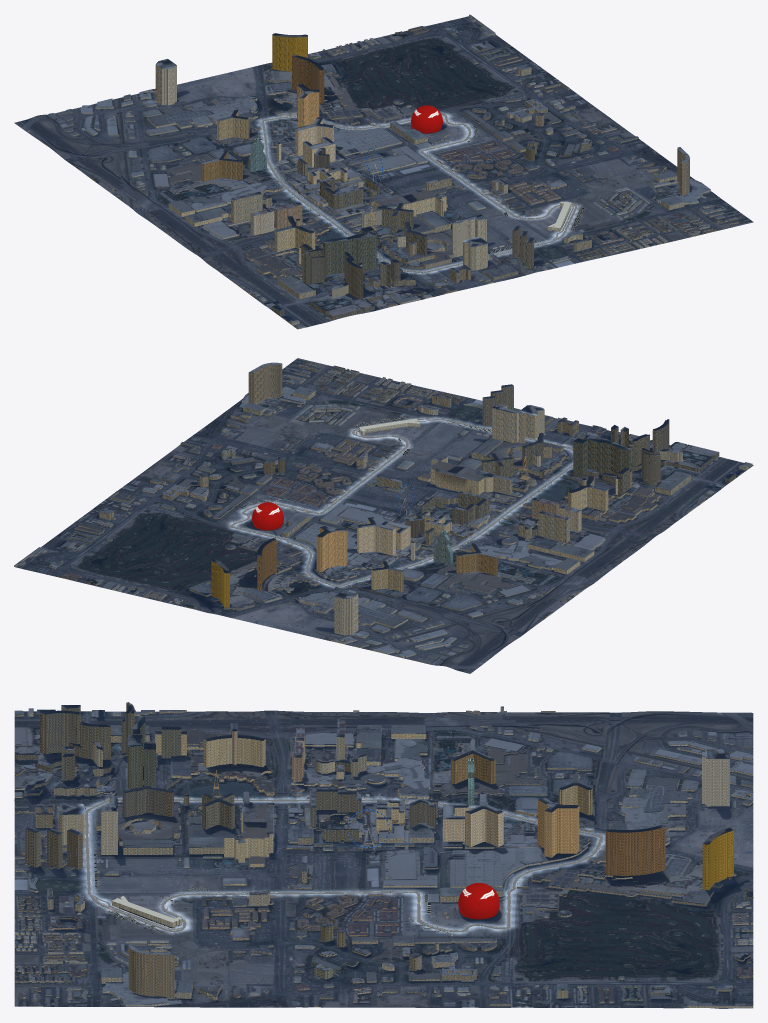
The model's file is las-vegas.glb.
The picture shows the model from 3 angles, top to bottom: view 1: azimuth 30°, elevation 25°; view 2: azimuth 150°, elevation 25°; view 3: azimuth 270°, elevation 25°; orthographic projection. The views are drawn at different scales.
Visible parts, largest first — view 1: LasVegas_Terrain, LasVegas_NAIP_Roofs, LasVegas_Buildings, LasVegas_Raceway, LasVegas_Safety_Barriers, LasVegas_Sphere_Exosphere; view 2: LasVegas_Terrain, LasVegas_Buildings, LasVegas_NAIP_Roofs, LasVegas_Raceway, LasVegas_Safety_Barriers, LasVegas_Sphere_Exosphere; view 3: LasVegas_Terrain, LasVegas_NAIP_Roofs, LasVegas_Buildings, LasVegas_Raceway, LasVegas_Safety_Barriers, LasVegas_Sphere_Exosphere, LasVegas_Grandstands.
Part boxes in pixels (x1,y1,x2,y2): LasVegas_Terrain: [14, 16, 753, 329]; LasVegas_NAIP_Roofs: [49, 14, 737, 327]; LasVegas_Buildings: [56, 15, 738, 328]; LasVegas_Raceway: [262, 113, 577, 272]; LasVegas_Safety_Barriers: [261, 112, 577, 272]; LasVegas_Sphere_Exosphere: [411, 105, 442, 133]; LasVegas_Terrain: [15, 358, 753, 673]; LasVegas_Buildings: [14, 363, 752, 663]; LasVegas_NAIP_Roofs: [14, 362, 752, 664]; LasVegas_Raceway: [230, 418, 573, 586]; LasVegas_Safety_Barriers: [230, 418, 573, 586]; LasVegas_Sphere_Exosphere: [252, 502, 283, 530]; LasVegas_Terrain: [14, 710, 753, 1008]; LasVegas_NAIP_Roofs: [14, 702, 753, 1006]; LasVegas_Buildings: [14, 703, 753, 1007]; LasVegas_Raceway: [85, 799, 602, 931]; LasVegas_Safety_Barriers: [84, 798, 603, 932]; LasVegas_Sphere_Exosphere: [458, 883, 499, 919]; LasVegas_Grandstands: [94, 855, 452, 935].
Size of the model in its own units: 2600 by 225 by 2806.
Materials: 21 (15 with a texture image).
